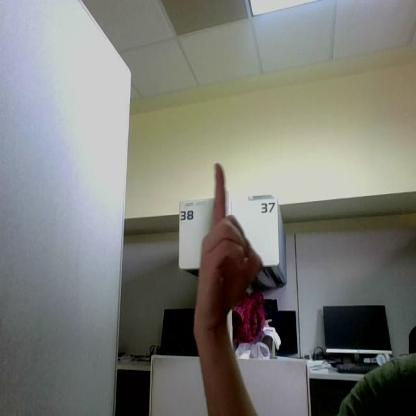D: (194, 164, 260, 327)
